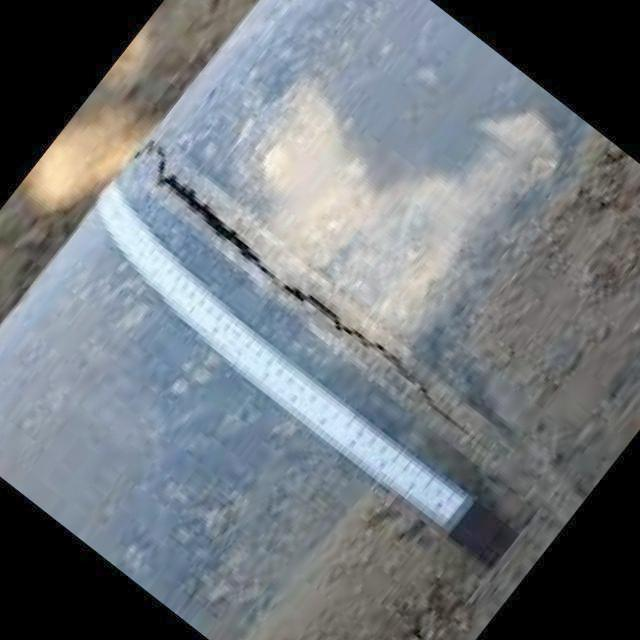defect: (124, 133, 502, 460)
